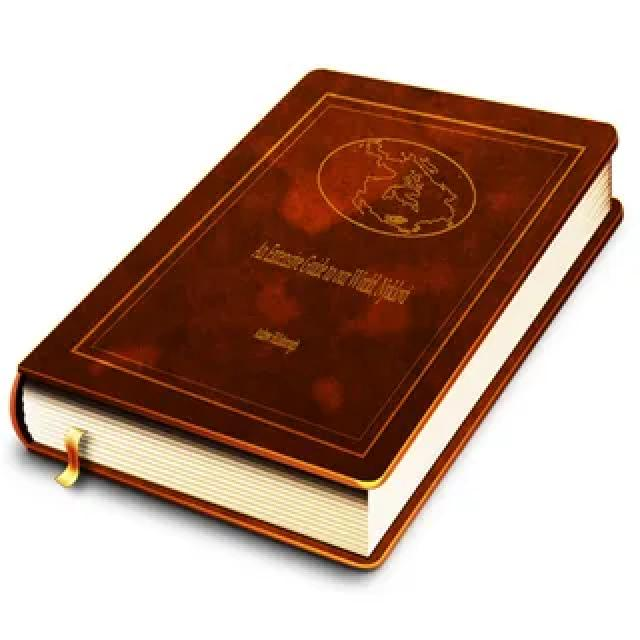book: (7, 49, 640, 588)
